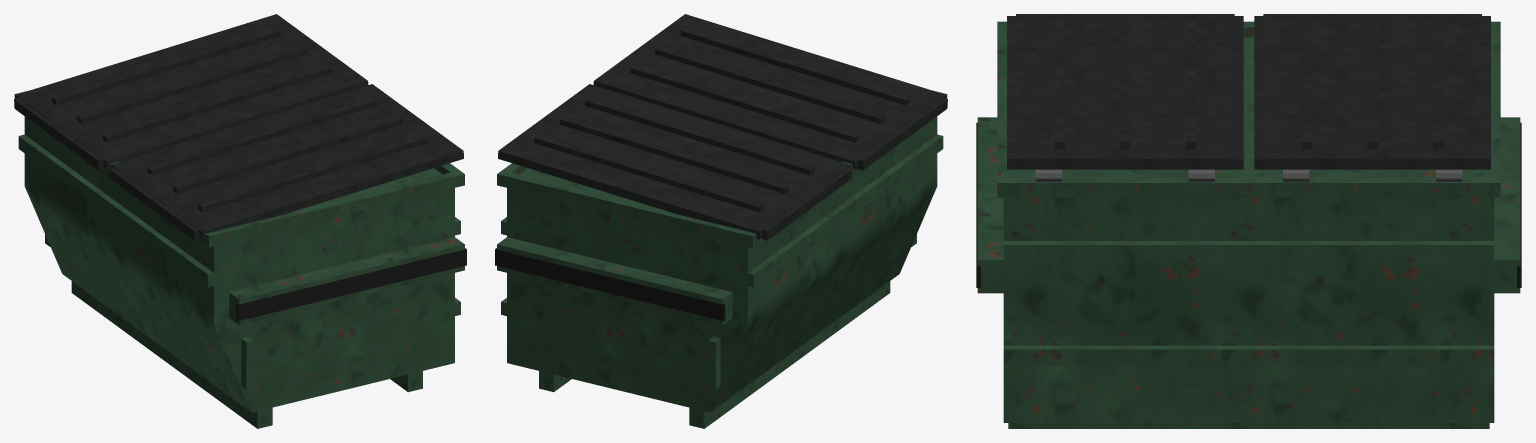
The model's file is dumpster.glb.
3 views of the same model, side by side, from view 1: azimuth 30°, elevation 25°; view 2: azimuth 150°, elevation 25°; view 3: azimuth 270°, elevation 25° (orthographic). The views are drawn at different scales.
Parts seen in each view (by area): view 1: dumpster; view 2: dumpster; view 3: dumpster.
Part boxes in pixels (x1,y1,x2,y2): dumpster: (14, 14, 466, 428); dumpster: (495, 14, 947, 428); dumpster: (976, 14, 1521, 428).
Size of the model in its own units: 1.7 by 1.4 by 2.3.
4 materials, 2 textured.
